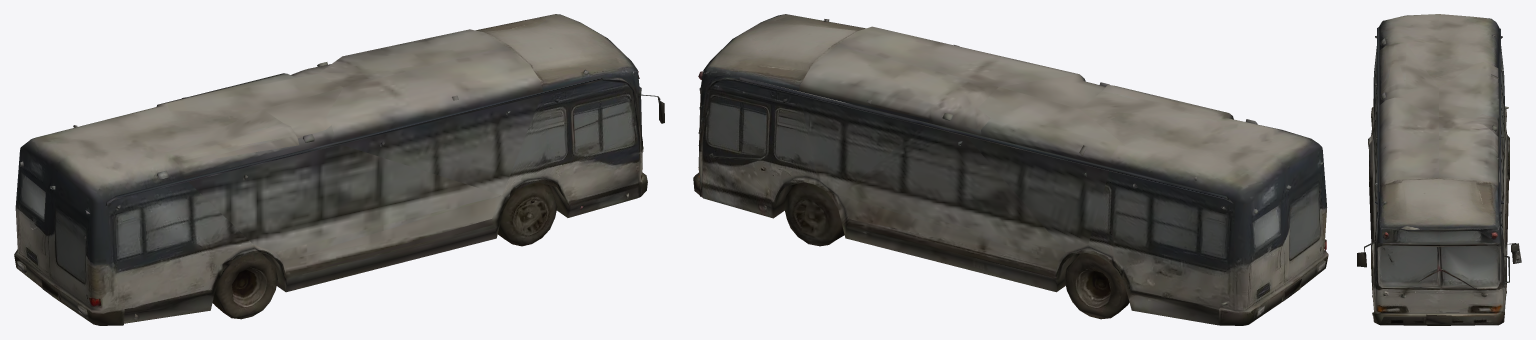
Rendered from abandoned_bus.glb.
3 renders of one model, left to right at view 1: azimuth 30°, elevation 25°; view 2: azimuth 150°, elevation 25°; view 3: azimuth 270°, elevation 25°, orthographic. The views are drawn at different scales.
Parts seen in each view (by area): view 1: tripo_node_c6ceb69b-6f64-4130-87e7-cac873a6edde; view 2: tripo_node_c6ceb69b-6f64-4130-87e7-cac873a6edde; view 3: tripo_node_c6ceb69b-6f64-4130-87e7-cac873a6edde.
Part boxes in pixels (left/top/right/bottom): tripo_node_c6ceb69b-6f64-4130-87e7-cac873a6edde: left=14, top=14, right=664, bottom=325; tripo_node_c6ceb69b-6f64-4130-87e7-cac873a6edde: left=693, top=14, right=1328, bottom=325; tripo_node_c6ceb69b-6f64-4130-87e7-cac873a6edde: left=1357, top=14, right=1521, bottom=325.
Size of the model in its own units: 0.998 by 0.2832 by 0.3262.
1 material, 1 textured.
